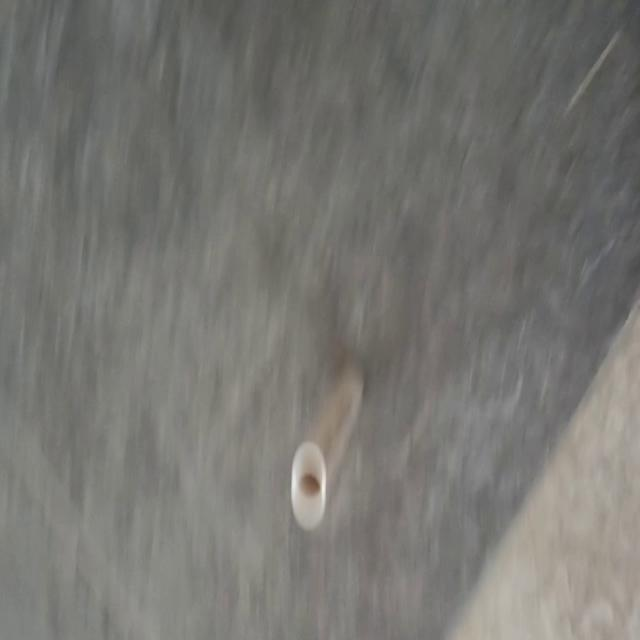Cube: (290, 439, 326, 531)
